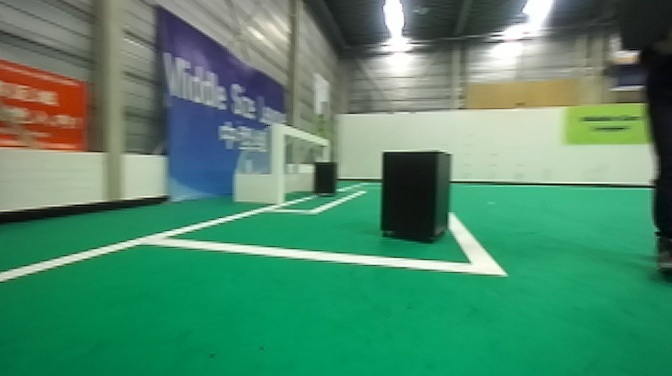goalpost: (271, 124, 287, 206), (317, 138, 331, 163)
